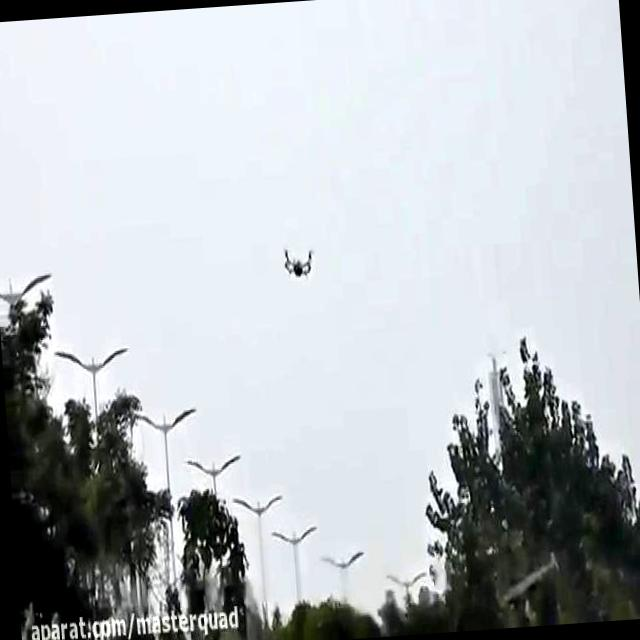drone: (278, 241, 316, 278)
